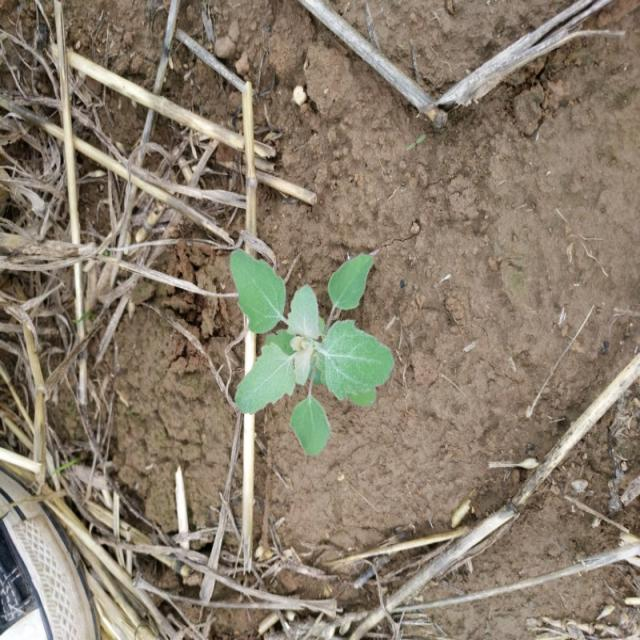goosefoots: (217, 246, 414, 459)
